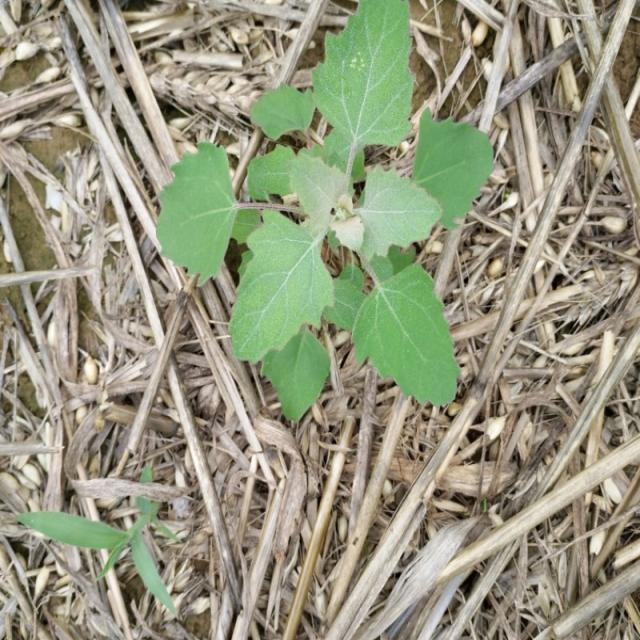goosefoots: (180, 33, 503, 437)
